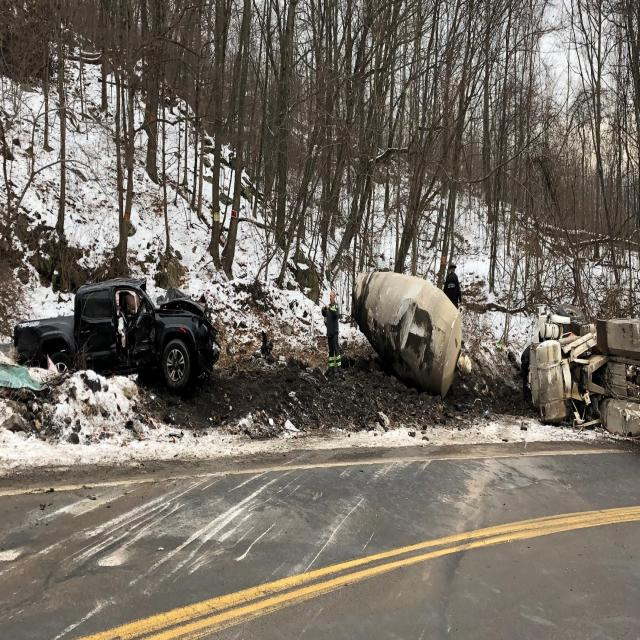Accident: (12, 267, 217, 407)
